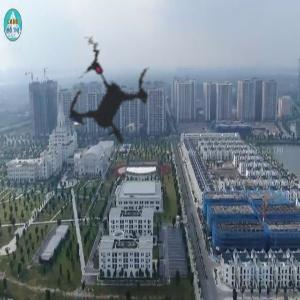drone: (17, 7, 211, 201)
